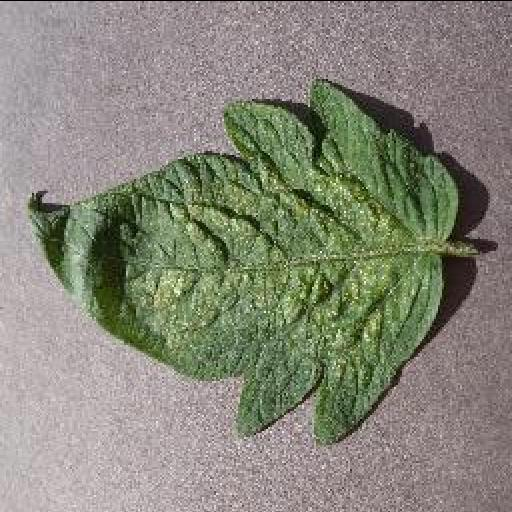disease_tomato: (28, 80, 458, 448)
